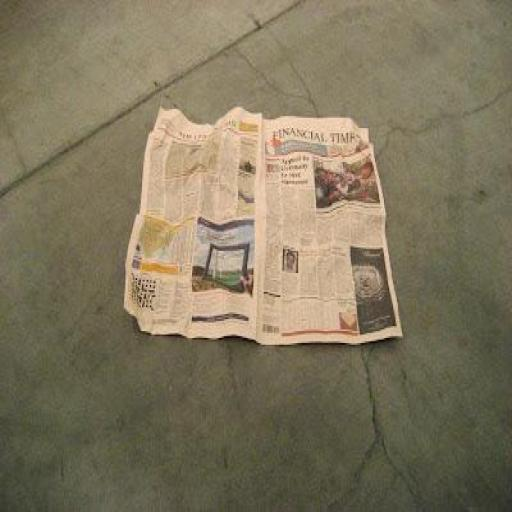paper: (122, 104, 403, 346)
